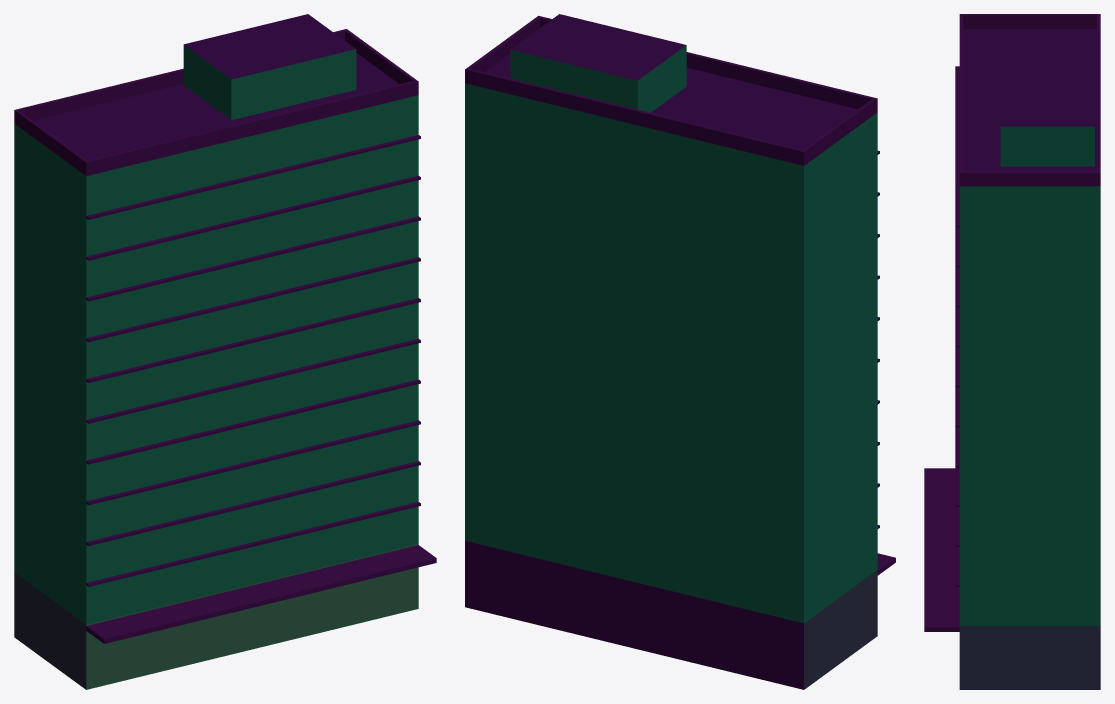
File: slab_f.lod2.glb
3 renders of one model, left to right at view 1: azimuth 30°, elevation 25°; view 2: azimuth 150°, elevation 25°; view 3: azimuth 270°, elevation 25°, orthographic. The views are drawn at different scales.
Parts seen in each view (by area): view 1: slab_f.lod2; view 2: slab_f.lod2; view 3: slab_f.lod2.
Boxes of the visible parts, x1,y1,x2,y2 form: slab_f.lod2: [14, 14, 436, 689]; slab_f.lod2: [465, 14, 895, 689]; slab_f.lod2: [924, 14, 1100, 689].
Bounding box in the file's own units: 25.6 × 40.8 × 12.
